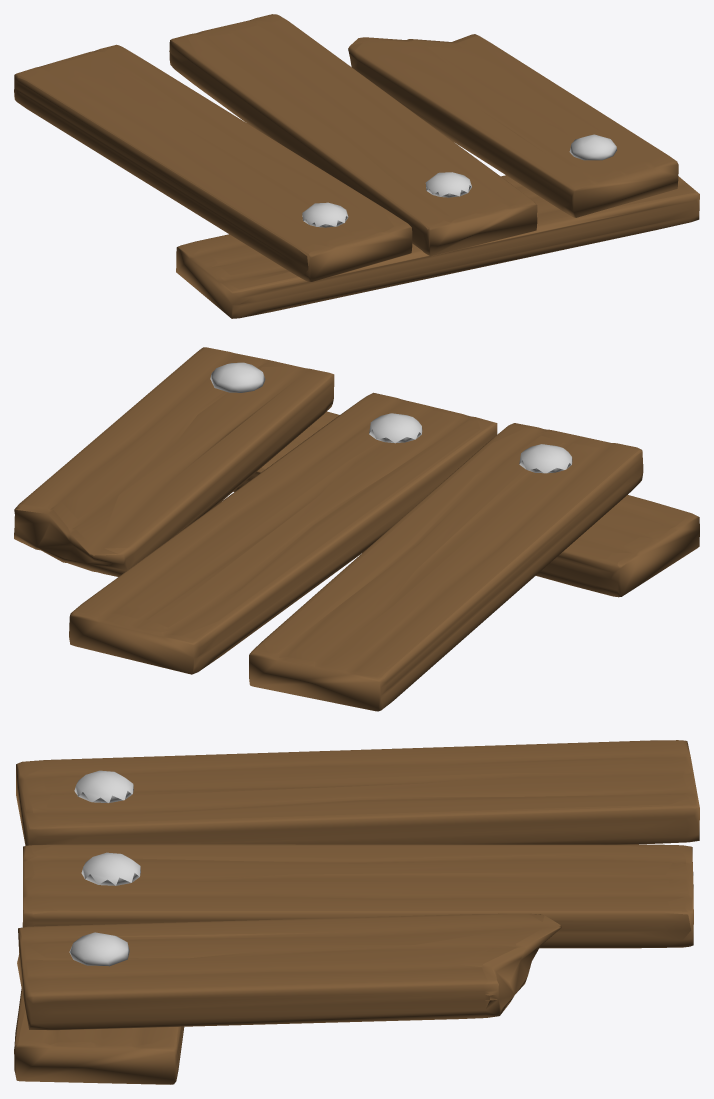
Rendered from plank_2.fbx.
3 renders of one model, top to bottom at view 1: azimuth 30°, elevation 25°; view 2: azimuth 150°, elevation 25°; view 3: azimuth 270°, elevation 25°, orthographic. The views are drawn at different scales.
Parts seen in each view (by area): view 1: plank.001, plank.002, plankb..002, plank.003, nail.002, nail, nail.003; view 2: plank.001, plank.002, plankb..002, plank.003, nail.002, nail, nail.003; view 3: plank.001, plank.002, plankb..002, plank.003, nail.002, nail, nail.003.
Part boxes in pixels (x1=…): plank.001: x1=14, y1=44, x2=412, y2=281; plank.002: x1=169, y1=14, x2=537, y2=256; plankb..002: x1=348, y1=34, x2=678, y2=217; plank.003: x1=176, y1=175, x2=699, y2=318; nail.002: x1=569, y1=134, x2=616, y2=160; nail: x1=425, y1=172, x2=471, y2=197; nail.003: x1=302, y1=202, x2=348, y2=227; plank.001: x1=249, y1=423, x2=643, y2=711; plank.002: x1=69, y1=392, x2=497, y2=674; plankb..002: x1=14, y1=347, x2=334, y2=576; plank.003: x1=233, y1=411, x2=699, y2=597; nail.002: x1=210, y1=362, x2=265, y2=392; nail: x1=369, y1=413, x2=422, y2=443; nail.003: x1=519, y1=444, x2=572, y2=473; plank.001: x1=16, y1=740, x2=699, y2=845; plank.002: x1=22, y1=844, x2=693, y2=948; plankb..002: x1=17, y1=913, x2=561, y2=1030; plank.003: x1=14, y1=989, x2=184, y2=1084; nail.002: x1=69, y1=932, x2=129, y2=966; nail: x1=81, y1=852, x2=140, y2=885; nail.003: x1=74, y1=770, x2=133, y2=802.
Size of the model in its own units: 5421 by 880 by 5456.
